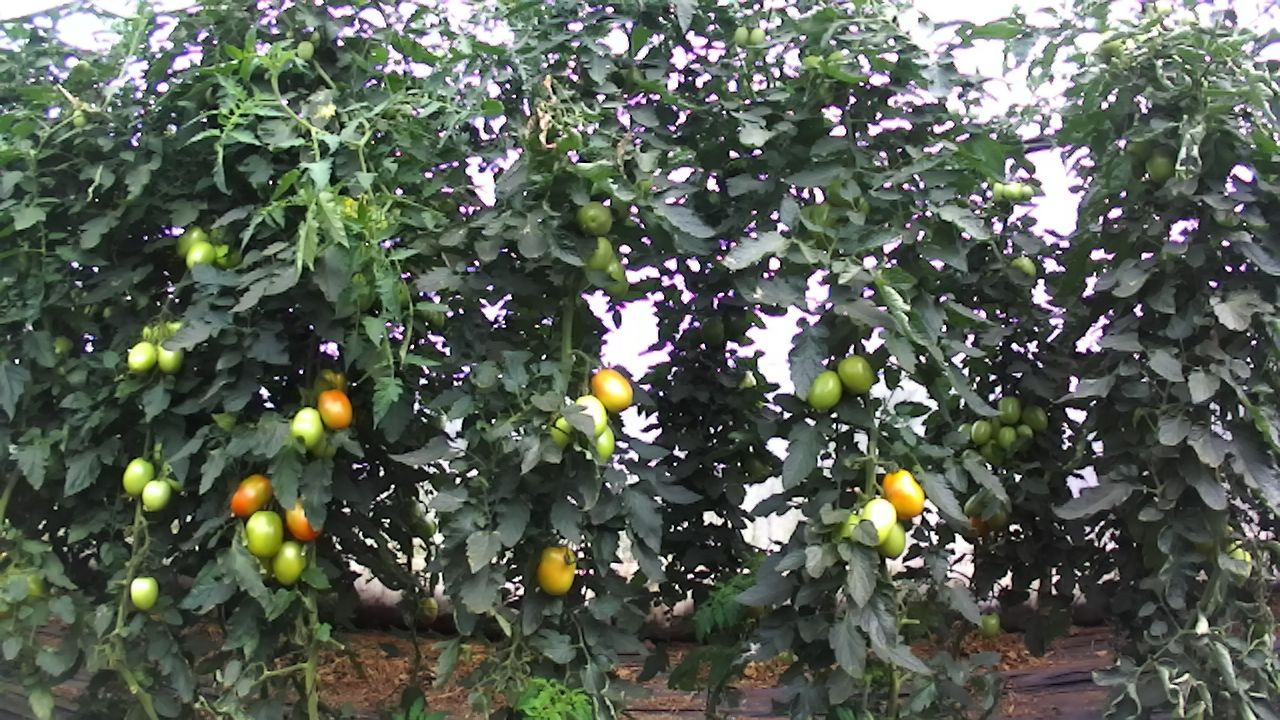tomato: (879, 467, 926, 522), (533, 543, 577, 597), (588, 366, 635, 415), (228, 472, 275, 518), (242, 508, 284, 559), (283, 496, 327, 543), (269, 537, 308, 587), (289, 403, 326, 454), (861, 496, 897, 547), (835, 352, 875, 397), (316, 387, 354, 433), (803, 368, 844, 410), (575, 393, 610, 441), (120, 455, 157, 498), (573, 199, 613, 238), (174, 223, 209, 260), (129, 574, 160, 615), (879, 516, 907, 559), (602, 258, 629, 301), (140, 477, 172, 513), (125, 340, 157, 375), (155, 341, 186, 377), (184, 241, 217, 272), (698, 312, 726, 348), (1020, 403, 1049, 434), (976, 608, 1002, 639), (996, 394, 1022, 425), (416, 595, 439, 628), (970, 417, 992, 446), (1002, 179, 1025, 204), (997, 424, 1018, 450)
